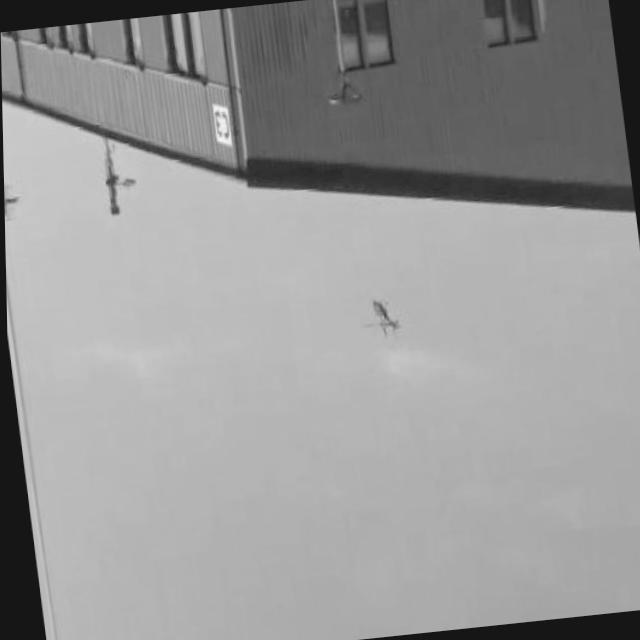helikopter: (358, 292, 410, 345)
